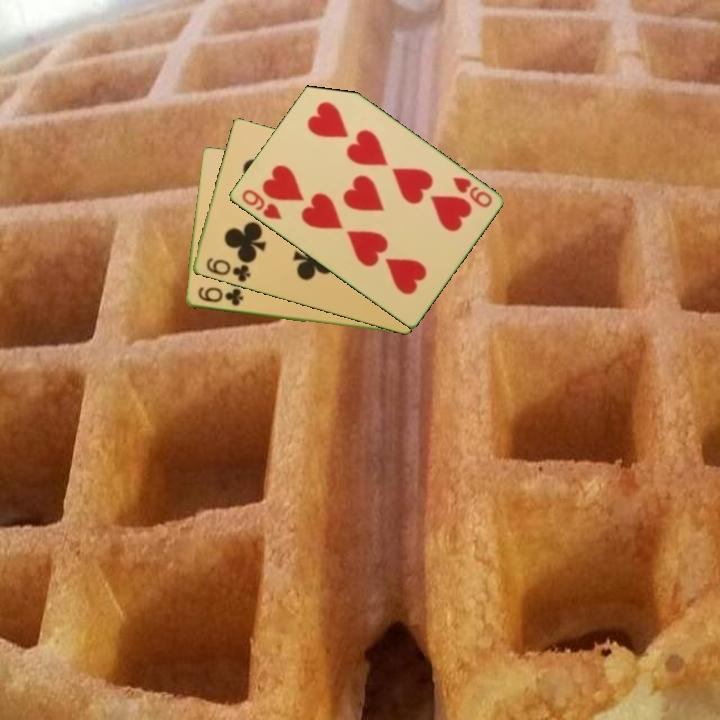6c: (202, 254, 253, 285), (194, 284, 246, 309)
9h: (448, 173, 495, 211), (238, 186, 284, 223)
